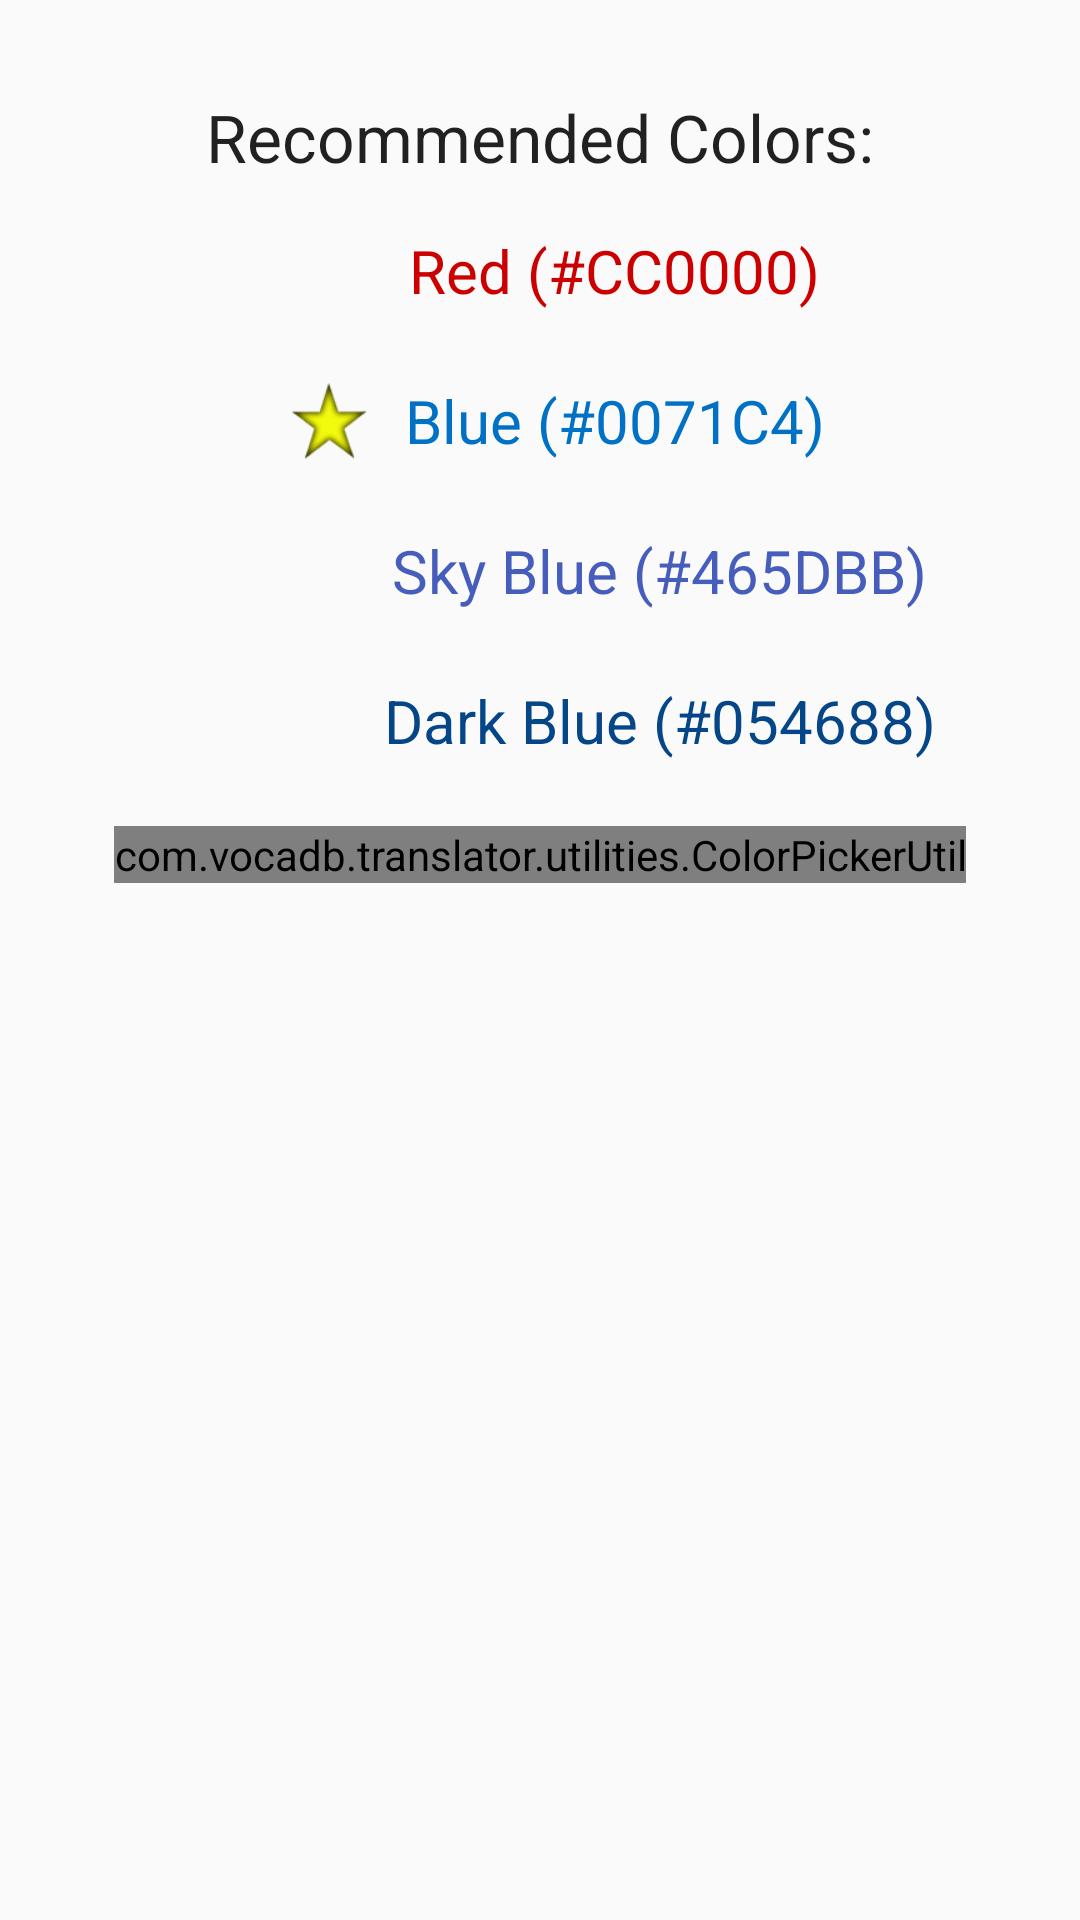

Screen size 1080×1920. Icon name, then its center in pixels as [x,y]:
fav: [329,421]
